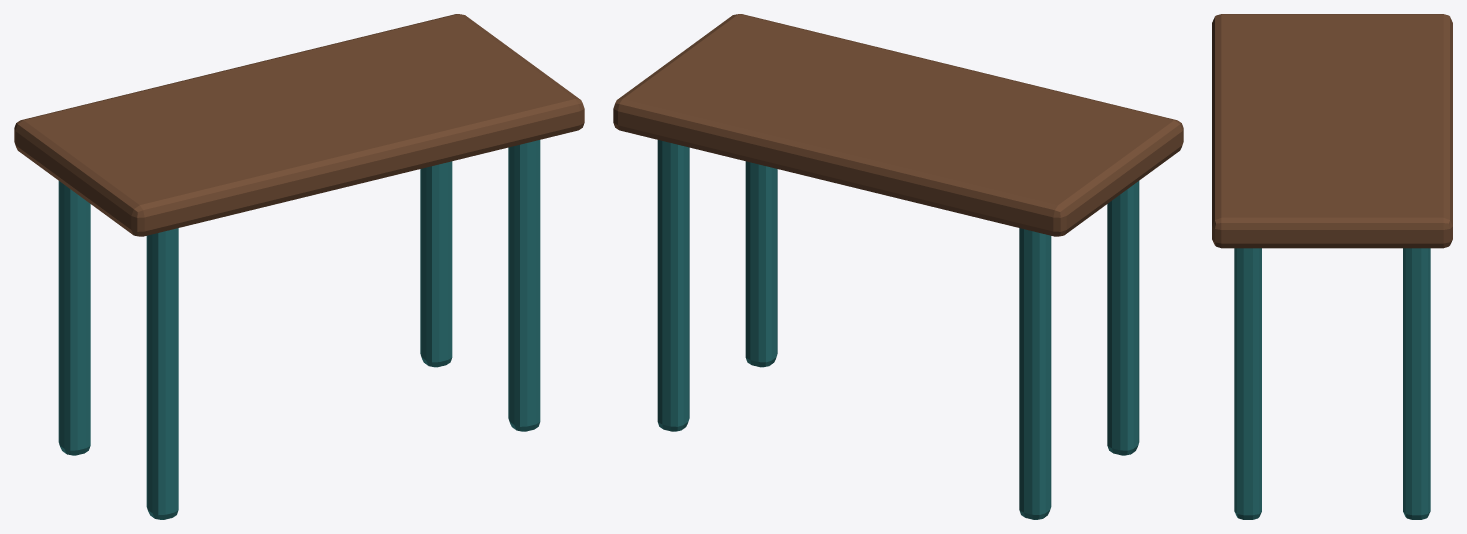
The model's file is sound_desk.glb.
The picture shows the model from 3 angles, left to right: view 1: azimuth 30°, elevation 25°; view 2: azimuth 150°, elevation 25°; view 3: azimuth 270°, elevation 25°; orthographic projection. The views are drawn at different scales.
Visible parts, largest first — view 1: sound_desk; view 2: sound_desk; view 3: sound_desk.
Boxes of the visible parts, x1,y1,x2,y2 form: sound_desk: [14, 14, 584, 519]; sound_desk: [613, 14, 1183, 519]; sound_desk: [1212, 14, 1452, 519].
Size of the model in its own units: 1.35 by 0.945 by 0.65.
